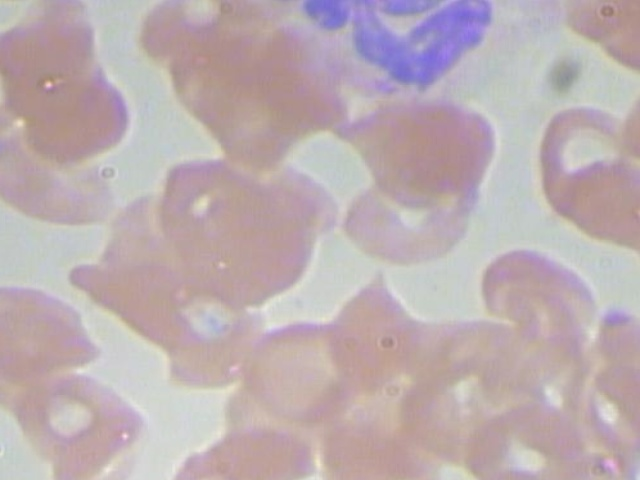RBC: (159, 176, 315, 309), (334, 94, 513, 204), (232, 304, 374, 431), (178, 53, 310, 178), (471, 240, 603, 364), (307, 270, 439, 394), (333, 165, 482, 271), (522, 100, 640, 229), (6, 359, 142, 468), (0, 118, 129, 230), (13, 60, 134, 167), (456, 391, 599, 480), (46, 399, 168, 480), (0, 0, 101, 96)
WBC: (203, 0, 570, 105)
